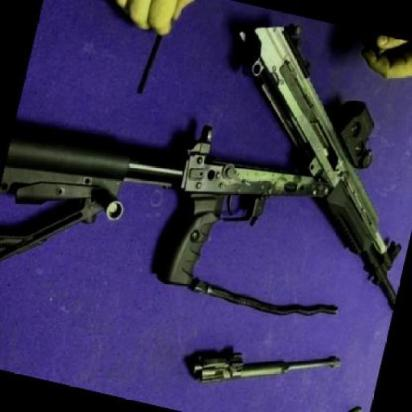Gun: (0, 0, 412, 362)
